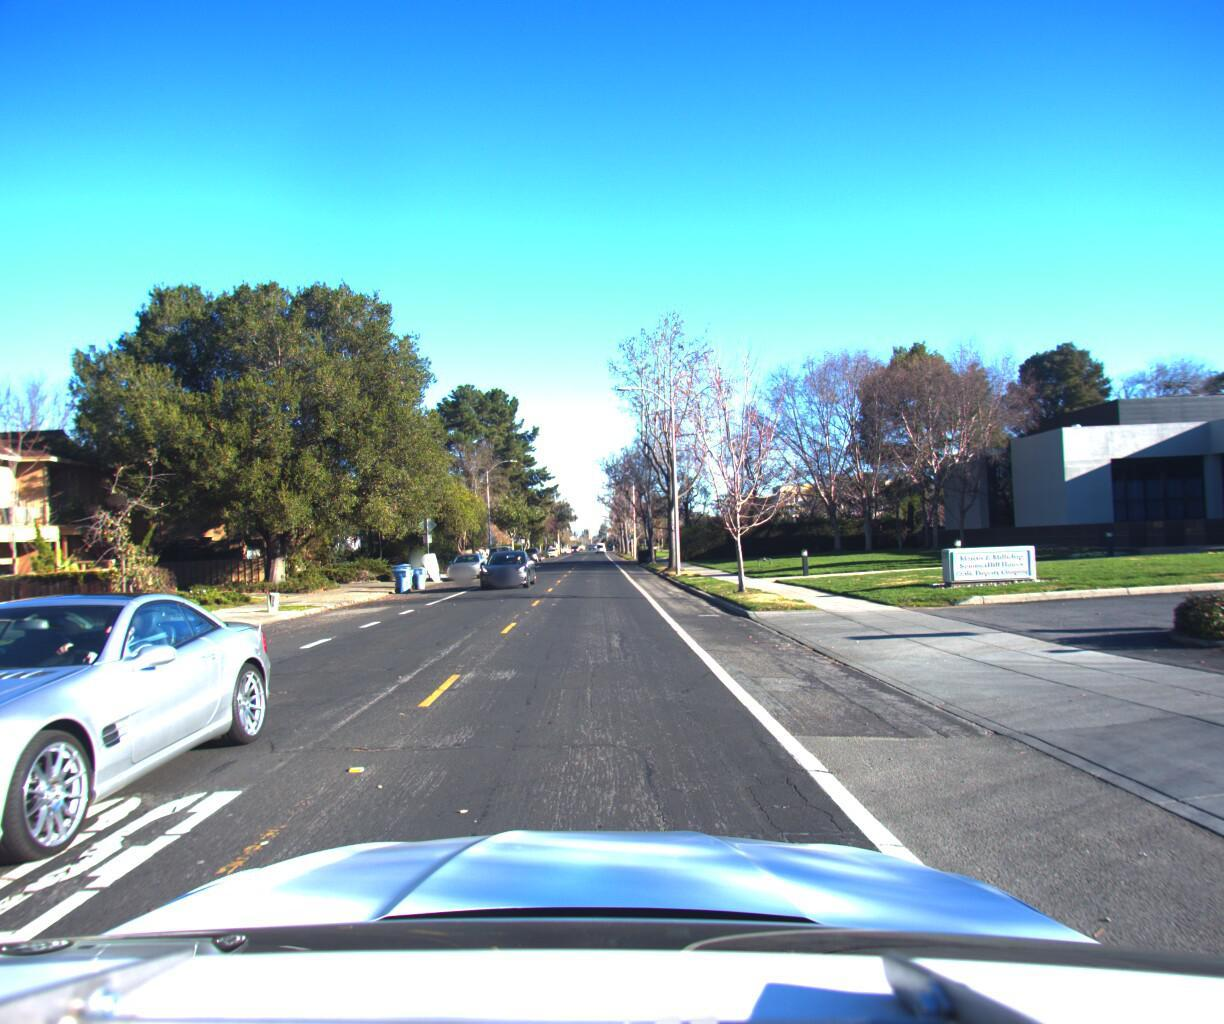bicycle: (0, 490, 11, 525)
car: (0, 569, 282, 952), (477, 547, 537, 589), (445, 550, 493, 579)
